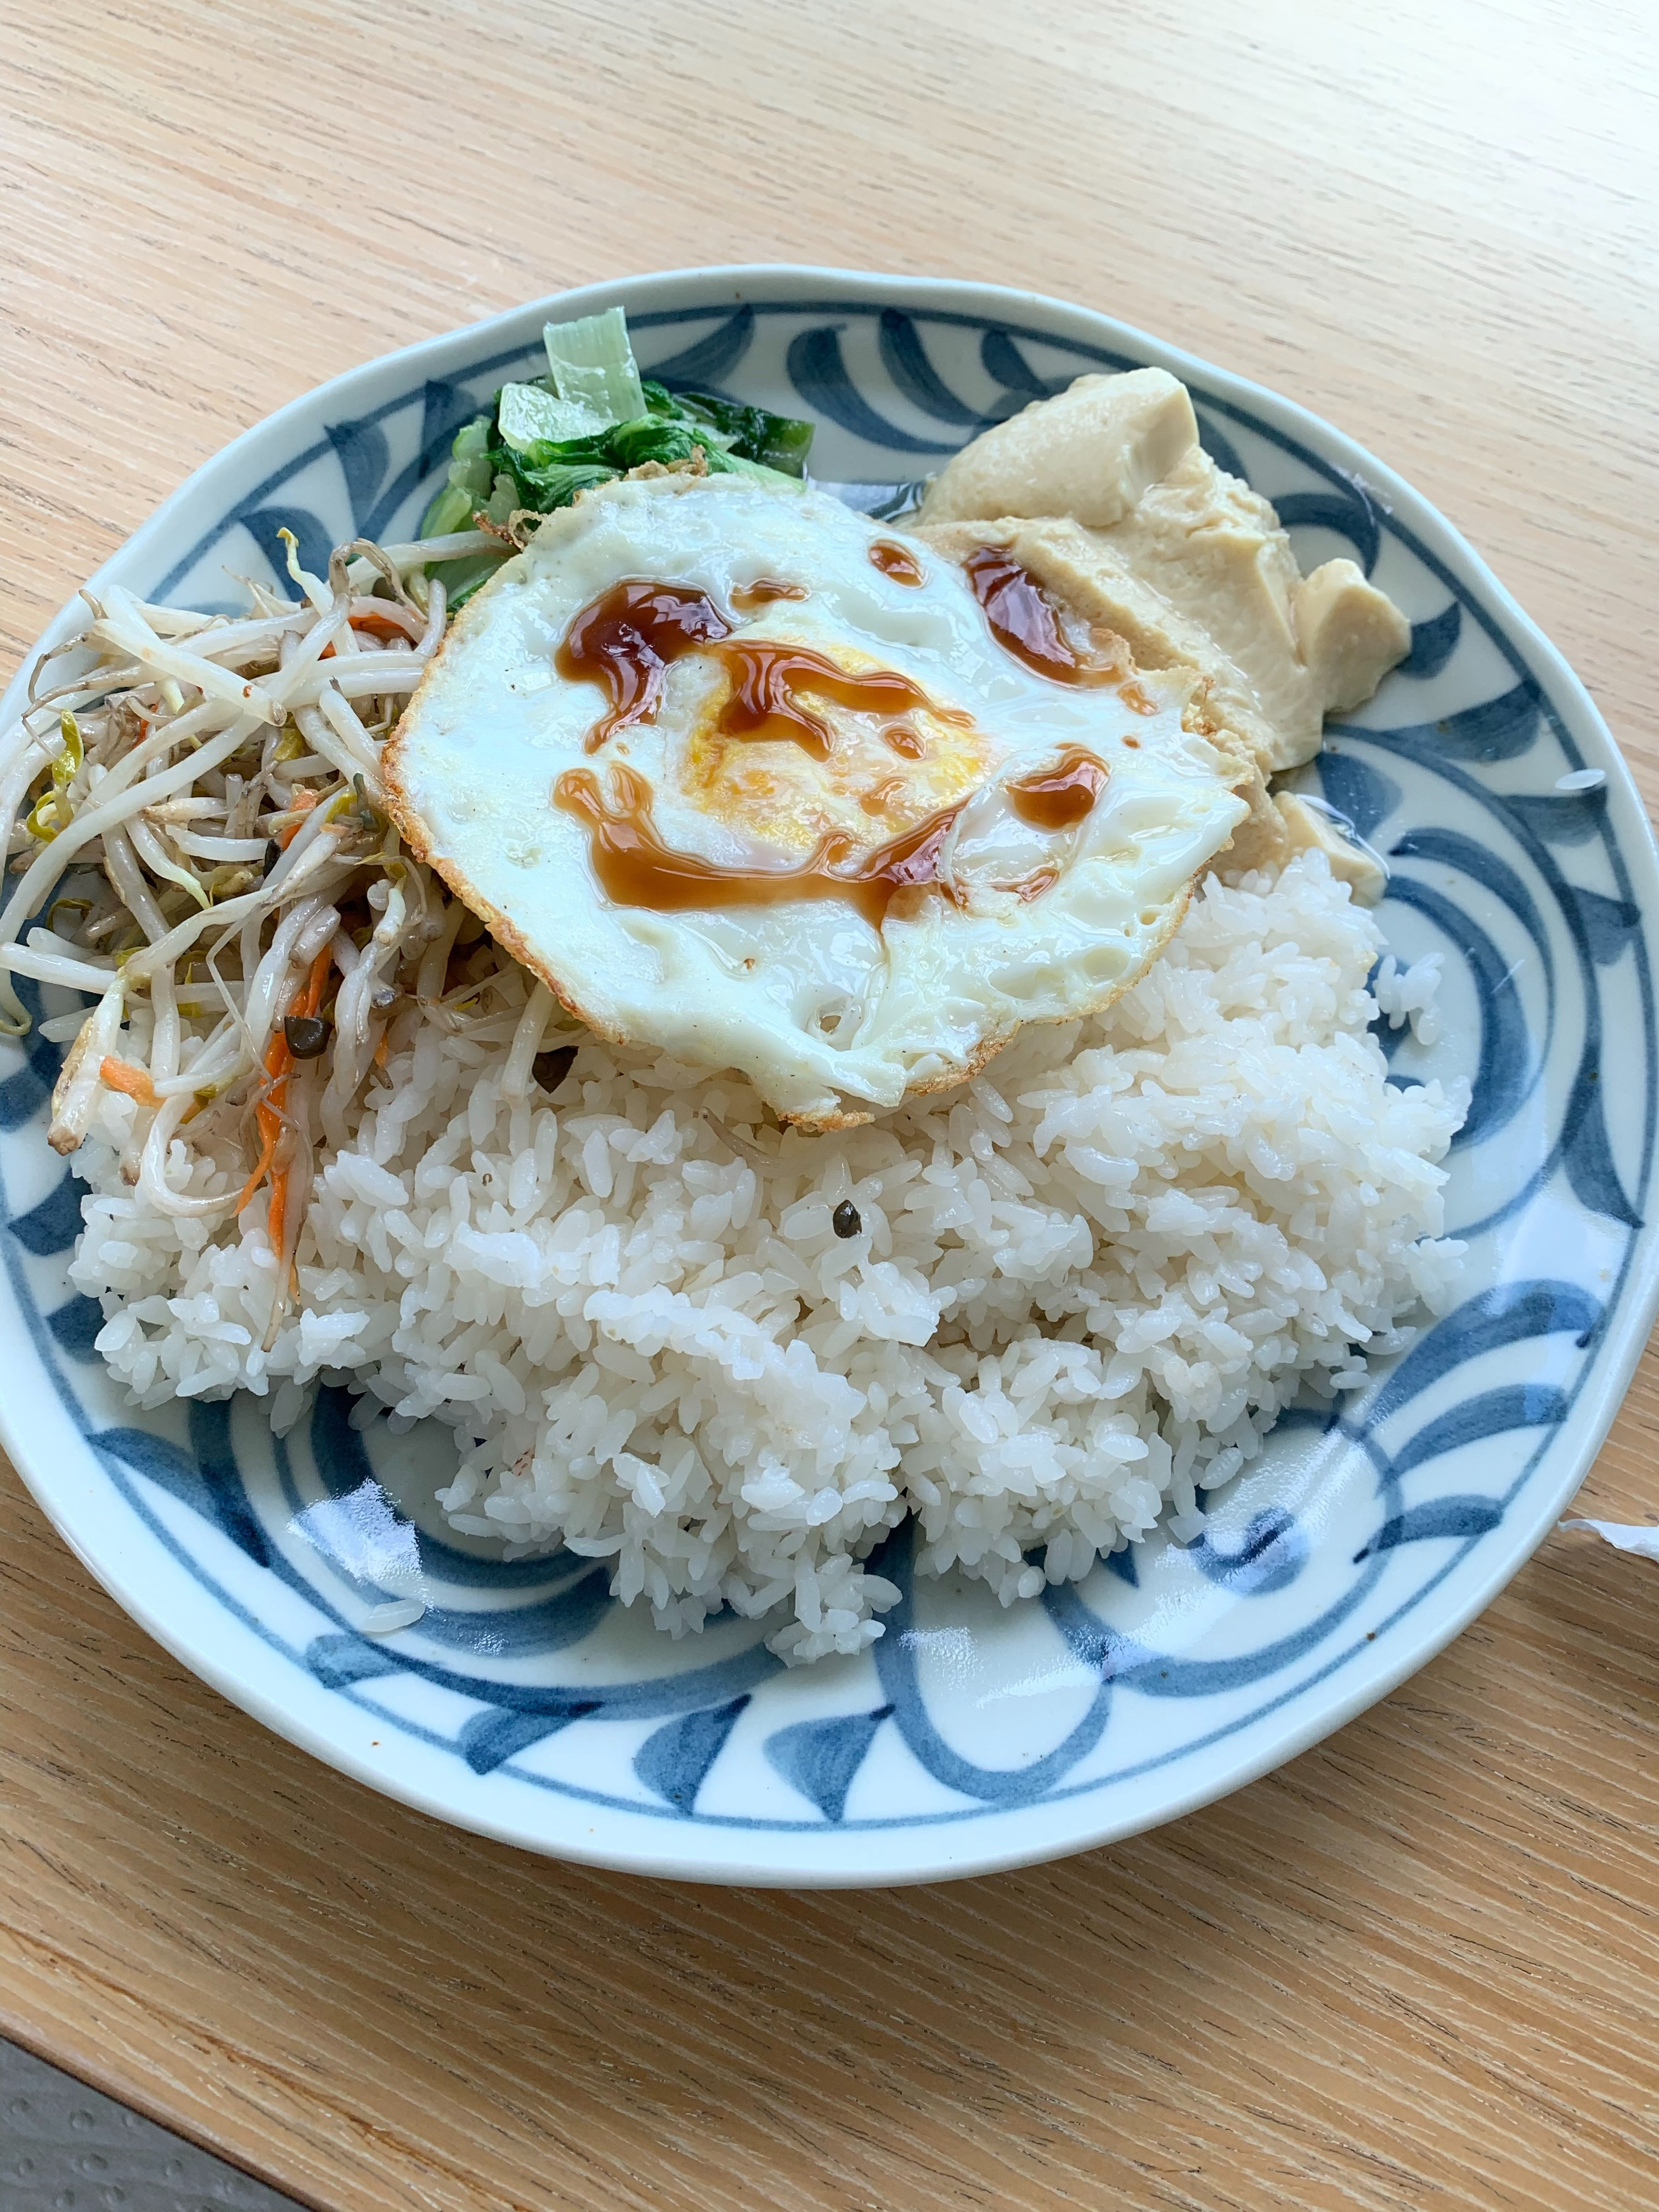fried_eggs: (495, 542, 1150, 1061)
mung_bean_sprouts: (0, 526, 416, 1050)
rice: (312, 1078, 1277, 1526)
